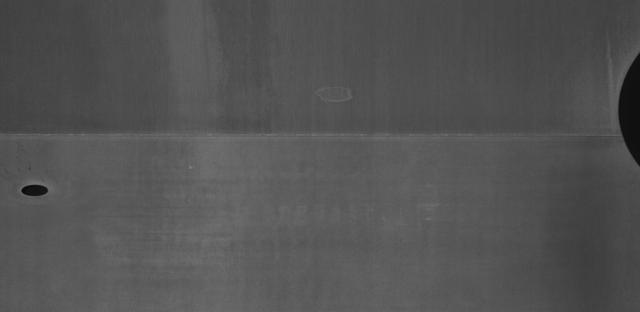punching_hole: (17, 181, 58, 202)
welding_line: (4, 128, 634, 147)
